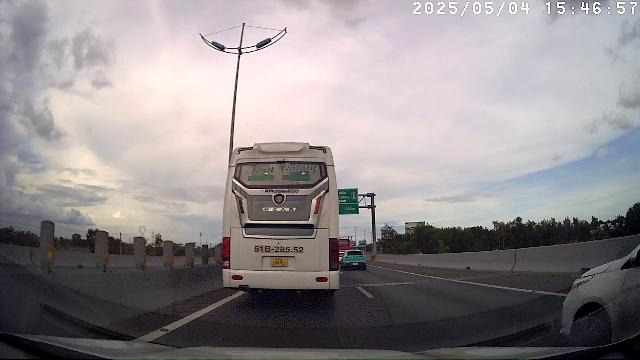438-ket-thuc-duong-cao-toc: (351, 191, 357, 200)
